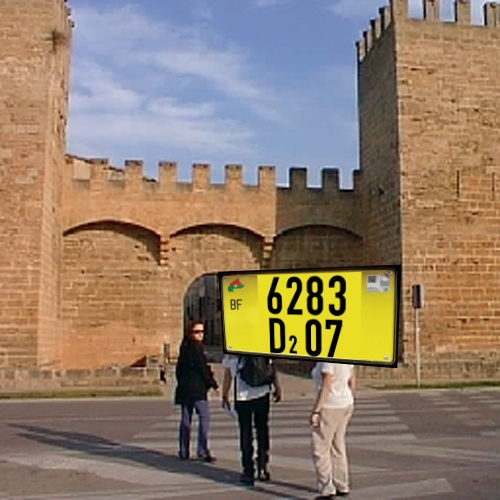plate: (208, 257, 414, 374)
